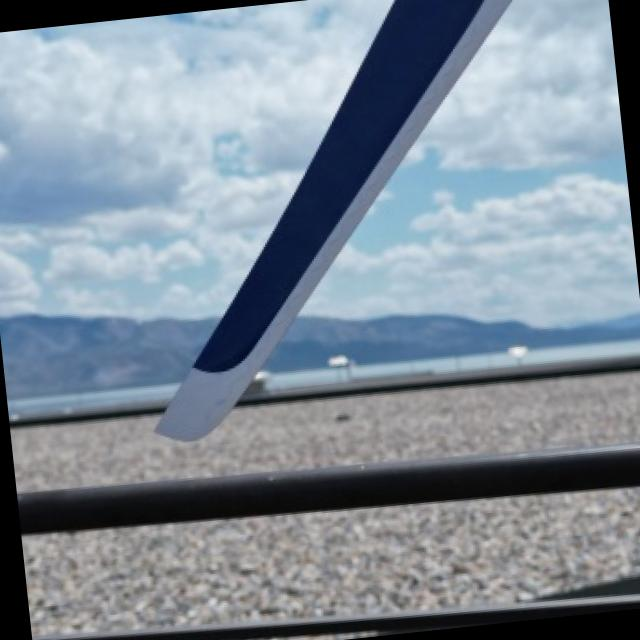healthy: (160, 0, 512, 438)
